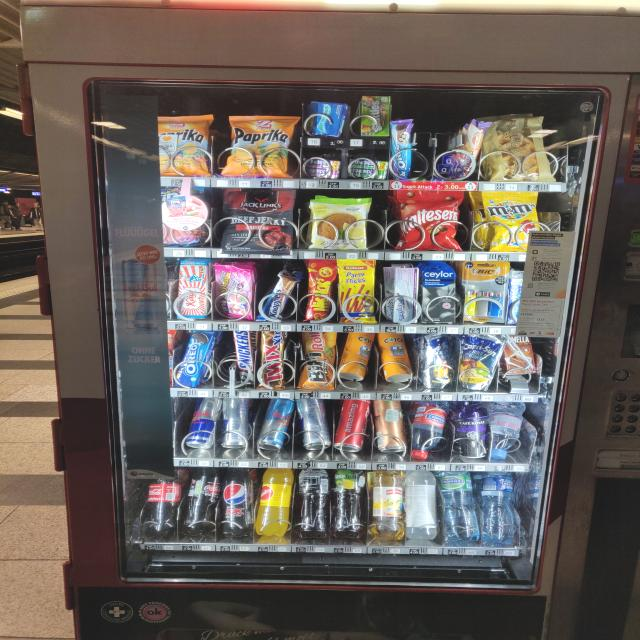airwaves_menthoneucalyptus_riegel_14_1_50173167: (301, 96, 350, 138)
bifi_roll__50__4251097402635: (297, 333, 340, 393)
c-swiss_dosenabisicetea__33__9120025930135: (335, 330, 380, 380), (378, 332, 415, 384)
caferoyal_classicmacchiato__33__7617014164487: (451, 403, 494, 462)
caprisun_multivitamin__20__4000177605004: (459, 338, 503, 390), (422, 336, 457, 388)
coke__dose_33__54491472: (333, 402, 373, 453)
coke__flasche_50__54491472: (142, 470, 183, 537)
coke_zero_flasche_50__5449000131836: (180, 471, 223, 537)
comella_schokodrink__33__7613100037253: (500, 334, 538, 376)
evian___50__3068320353500: (490, 402, 530, 461)
fini_jellykisses_packung_80_1_8410525116704: (210, 265, 259, 320)
fuse_lemon__50__5449000235947: (330, 468, 370, 540)
fuse_peach__50__5449000236623: (296, 468, 330, 544)
fuse_peach_dose_33__5449000236623: (373, 400, 406, 457)
henniez_blau__33__7610235000442: (480, 474, 520, 549)
henniez_gruen__33__7610235000442: (446, 470, 482, 544)
henniez_rot__33__7610235000442: (408, 402, 449, 460)
jacklinks_beefjerkyorginal__25__4047751730219: (217, 190, 300, 260)
jlbrichard_gauffre__90__5410495002000: (484, 118, 560, 182)
kagi_specialedition__50__7610046000259: (177, 260, 209, 320)
knoppers_riegel____4035800488808: (266, 274, 296, 319)
lorenz_nicnacs__40__4018077798818: (303, 258, 341, 322)
malburner_partysticks__40__7610200279682: (334, 258, 382, 322)
maltesers___100__5000159023061: (392, 187, 469, 250)
mnms_gelb__45__40111445: (480, 190, 544, 254)
oreo___66__84100733: (176, 331, 219, 387)
pepsi_max__50__4060800105943: (221, 465, 256, 539)
ramseier_schorle__50__7610057012456: (366, 471, 404, 541)
redbull___33__90162909: (295, 396, 337, 448), (184, 398, 220, 450), (220, 399, 253, 448)
redbull_light__33__90162800: (255, 401, 297, 452)
sinalco_orange__50__4018715000112: (255, 467, 295, 538), (255, 469, 296, 538)
skittles_sour_riegel_51_1_0000000000004: (359, 94, 393, 134)
snickers___50__5000159461122: (230, 331, 258, 387)
stimorol_spearmint_riegel_14_1_0000000000005: (349, 158, 391, 177)
stimorol_wildcherry_riegel_14_1_57060330: (304, 158, 344, 178)
twix___50__5000159459228: (256, 329, 294, 391)
vitaminwell_reload__50__7350042716388: (400, 470, 441, 542)
zweifel_paprika__90__7610095013002: (216, 112, 302, 176), (147, 111, 218, 177)
